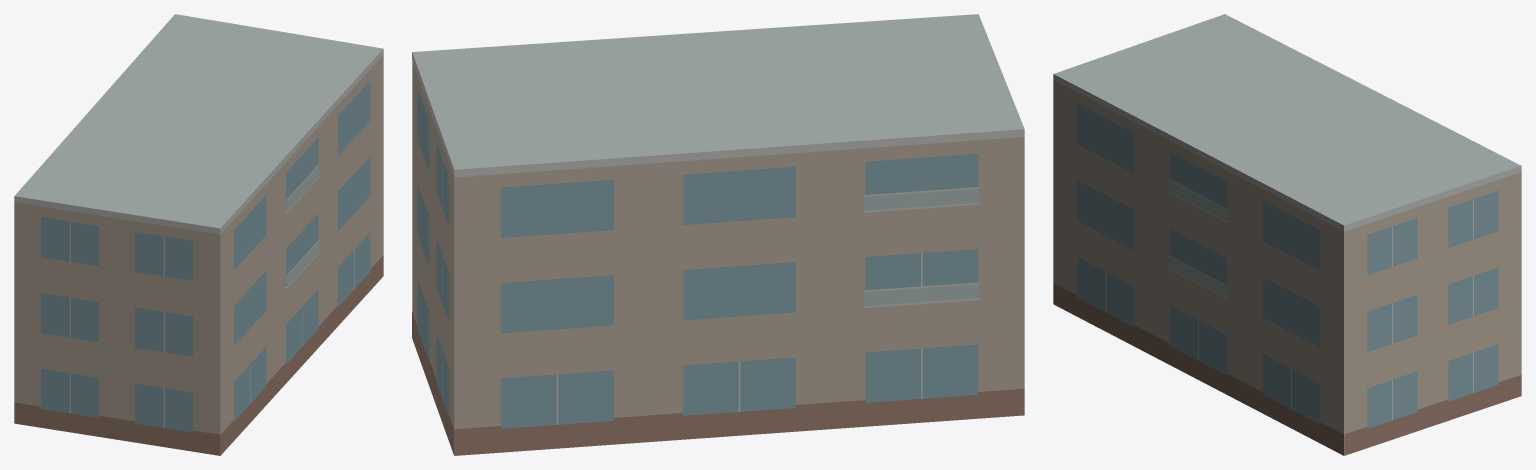
The model's file is survey-upis-32722015.glb.
3 views of the same model, side by side, from view 1: azimuth 30°, elevation 25°; view 2: azimuth 150°, elevation 25°; view 3: azimuth 270°, elevation 25° (orthographic). The views are drawn at different scales.
Visible parts, largest first — view 1: survey-upis-32722015.tmp; view 2: survey-upis-32722015.tmp; view 3: survey-upis-32722015.tmp.
Part boxes in pixels (<box>): survey-upis-32722015.tmp: <box>14,14,383,455</box>; survey-upis-32722015.tmp: <box>412,14,1024,455</box>; survey-upis-32722015.tmp: <box>1053,14,1521,455</box>.
Bounding box in the file's own units: 18.03 × 9.15 × 16.86.
